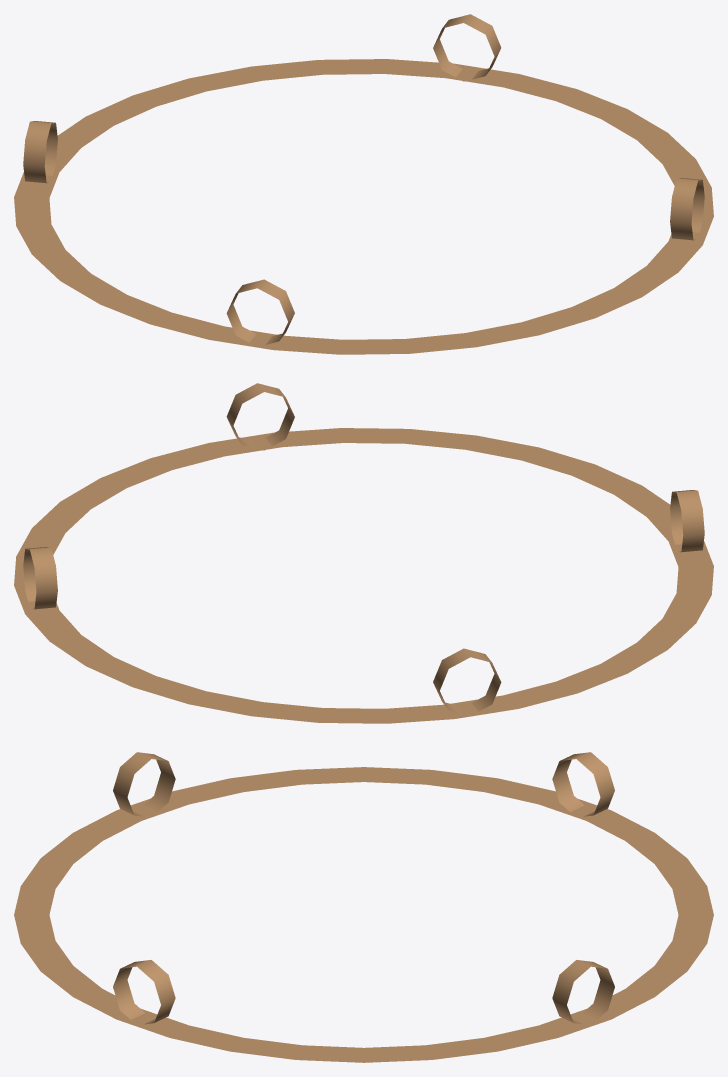
Rendered from Dr_Torpedo_2Tube_AA_004_3_Dr_Torpedo_2Tube_AA_004_3.obj.
3 views of the same model, one above another, from view 1: azimuth 30°, elevation 25°; view 2: azimuth 150°, elevation 25°; view 3: azimuth 270°, elevation 25° (orthographic).
Parts seen in each view (by area): view 1: Dr_Torpedo_2Tube_AA_004_3_Dr_Torpedo_2Tube_AA_004_3; view 2: Dr_Torpedo_2Tube_AA_004_3_Dr_Torpedo_2Tube_AA_004_3; view 3: Dr_Torpedo_2Tube_AA_004_3_Dr_Torpedo_2Tube_AA_004_3.
Boxes of the visible parts, x1=… form: Dr_Torpedo_2Tube_AA_004_3_Dr_Torpedo_2Tube_AA_004_3: x1=14, y1=14, x2=713, y2=354; Dr_Torpedo_2Tube_AA_004_3_Dr_Torpedo_2Tube_AA_004_3: x1=14, y1=383, x2=713, y2=723; Dr_Torpedo_2Tube_AA_004_3_Dr_Torpedo_2Tube_AA_004_3: x1=14, y1=752, x2=713, y2=1062.
Size of the model in its own units: 2.1 by 0.1943 by 2.1.
